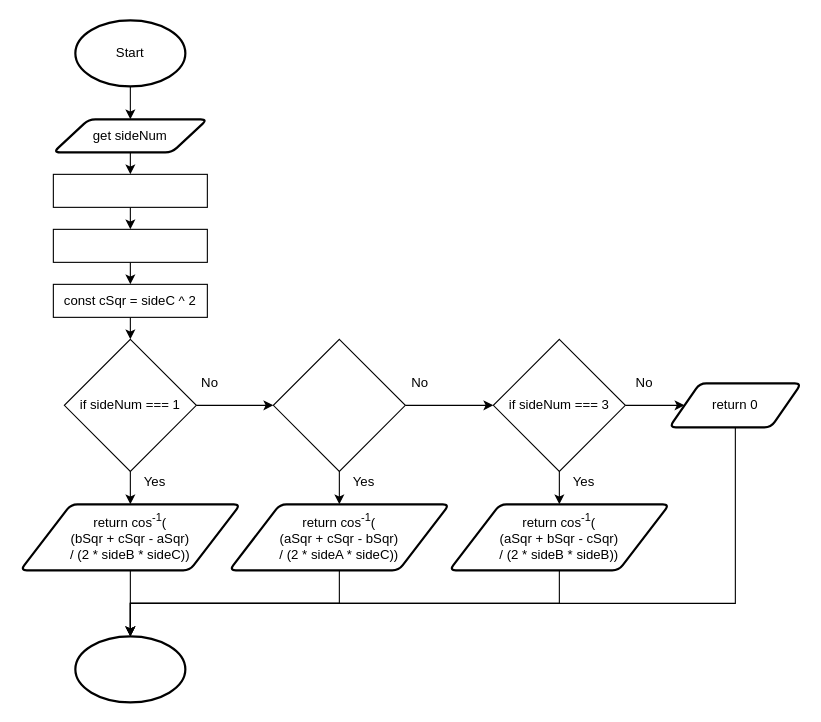
Some shapes in this 821 by 722 pixel diagram are drawn without their labels. The shapes that lost their labels are listed below. From the top down, each one's box as (x1, y1, x2, y2) in pixels, then its label:
(52, 173, 207, 207): const aSqr = sideA ^ 2
(52, 228, 207, 262): const bSqr = sideB^ 2
(272, 338, 405, 471): if sideNum === 2
(74, 635, 186, 703): Stop
